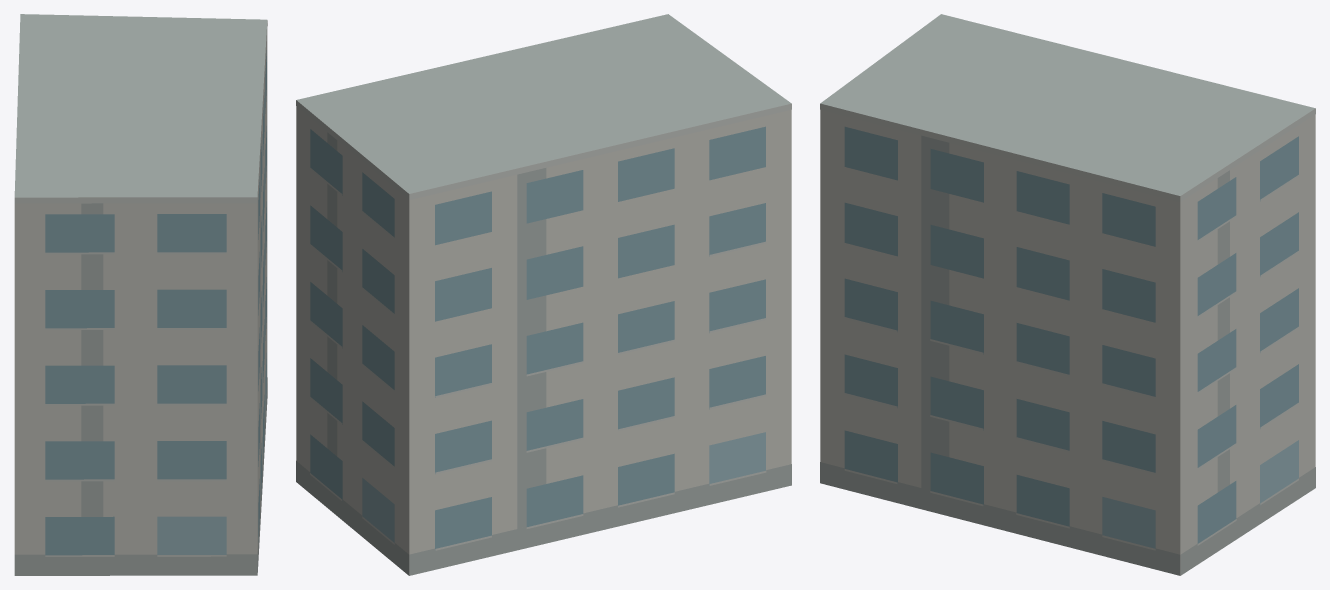
File: survey-upis-32883438.glb
The picture shows the model from 3 angles, left to right: view 1: azimuth 30°, elevation 25°; view 2: azimuth 150°, elevation 25°; view 3: azimuth 270°, elevation 25°; orthographic projection.
Parts seen in each view (by area): view 1: survey-upis-32883438.tmp; view 2: survey-upis-32883438.tmp; view 3: survey-upis-32883438.tmp.
Boxes of the visible parts, bbox=[...] form: survey-upis-32883438.tmp: bbox=[14, 14, 267, 575]; survey-upis-32883438.tmp: bbox=[296, 14, 791, 575]; survey-upis-32883438.tmp: bbox=[820, 14, 1315, 575].
Bounding box in the file's own units: 15.7 × 15.25 × 18.05.
